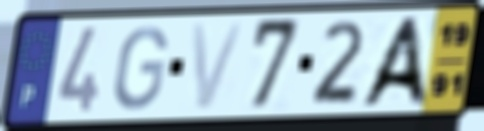2: (309, 17, 366, 108)
4: (55, 23, 102, 118)
7: (249, 16, 303, 115)
A: (355, 14, 431, 109)
G: (110, 24, 170, 113)
V: (189, 20, 249, 113)
